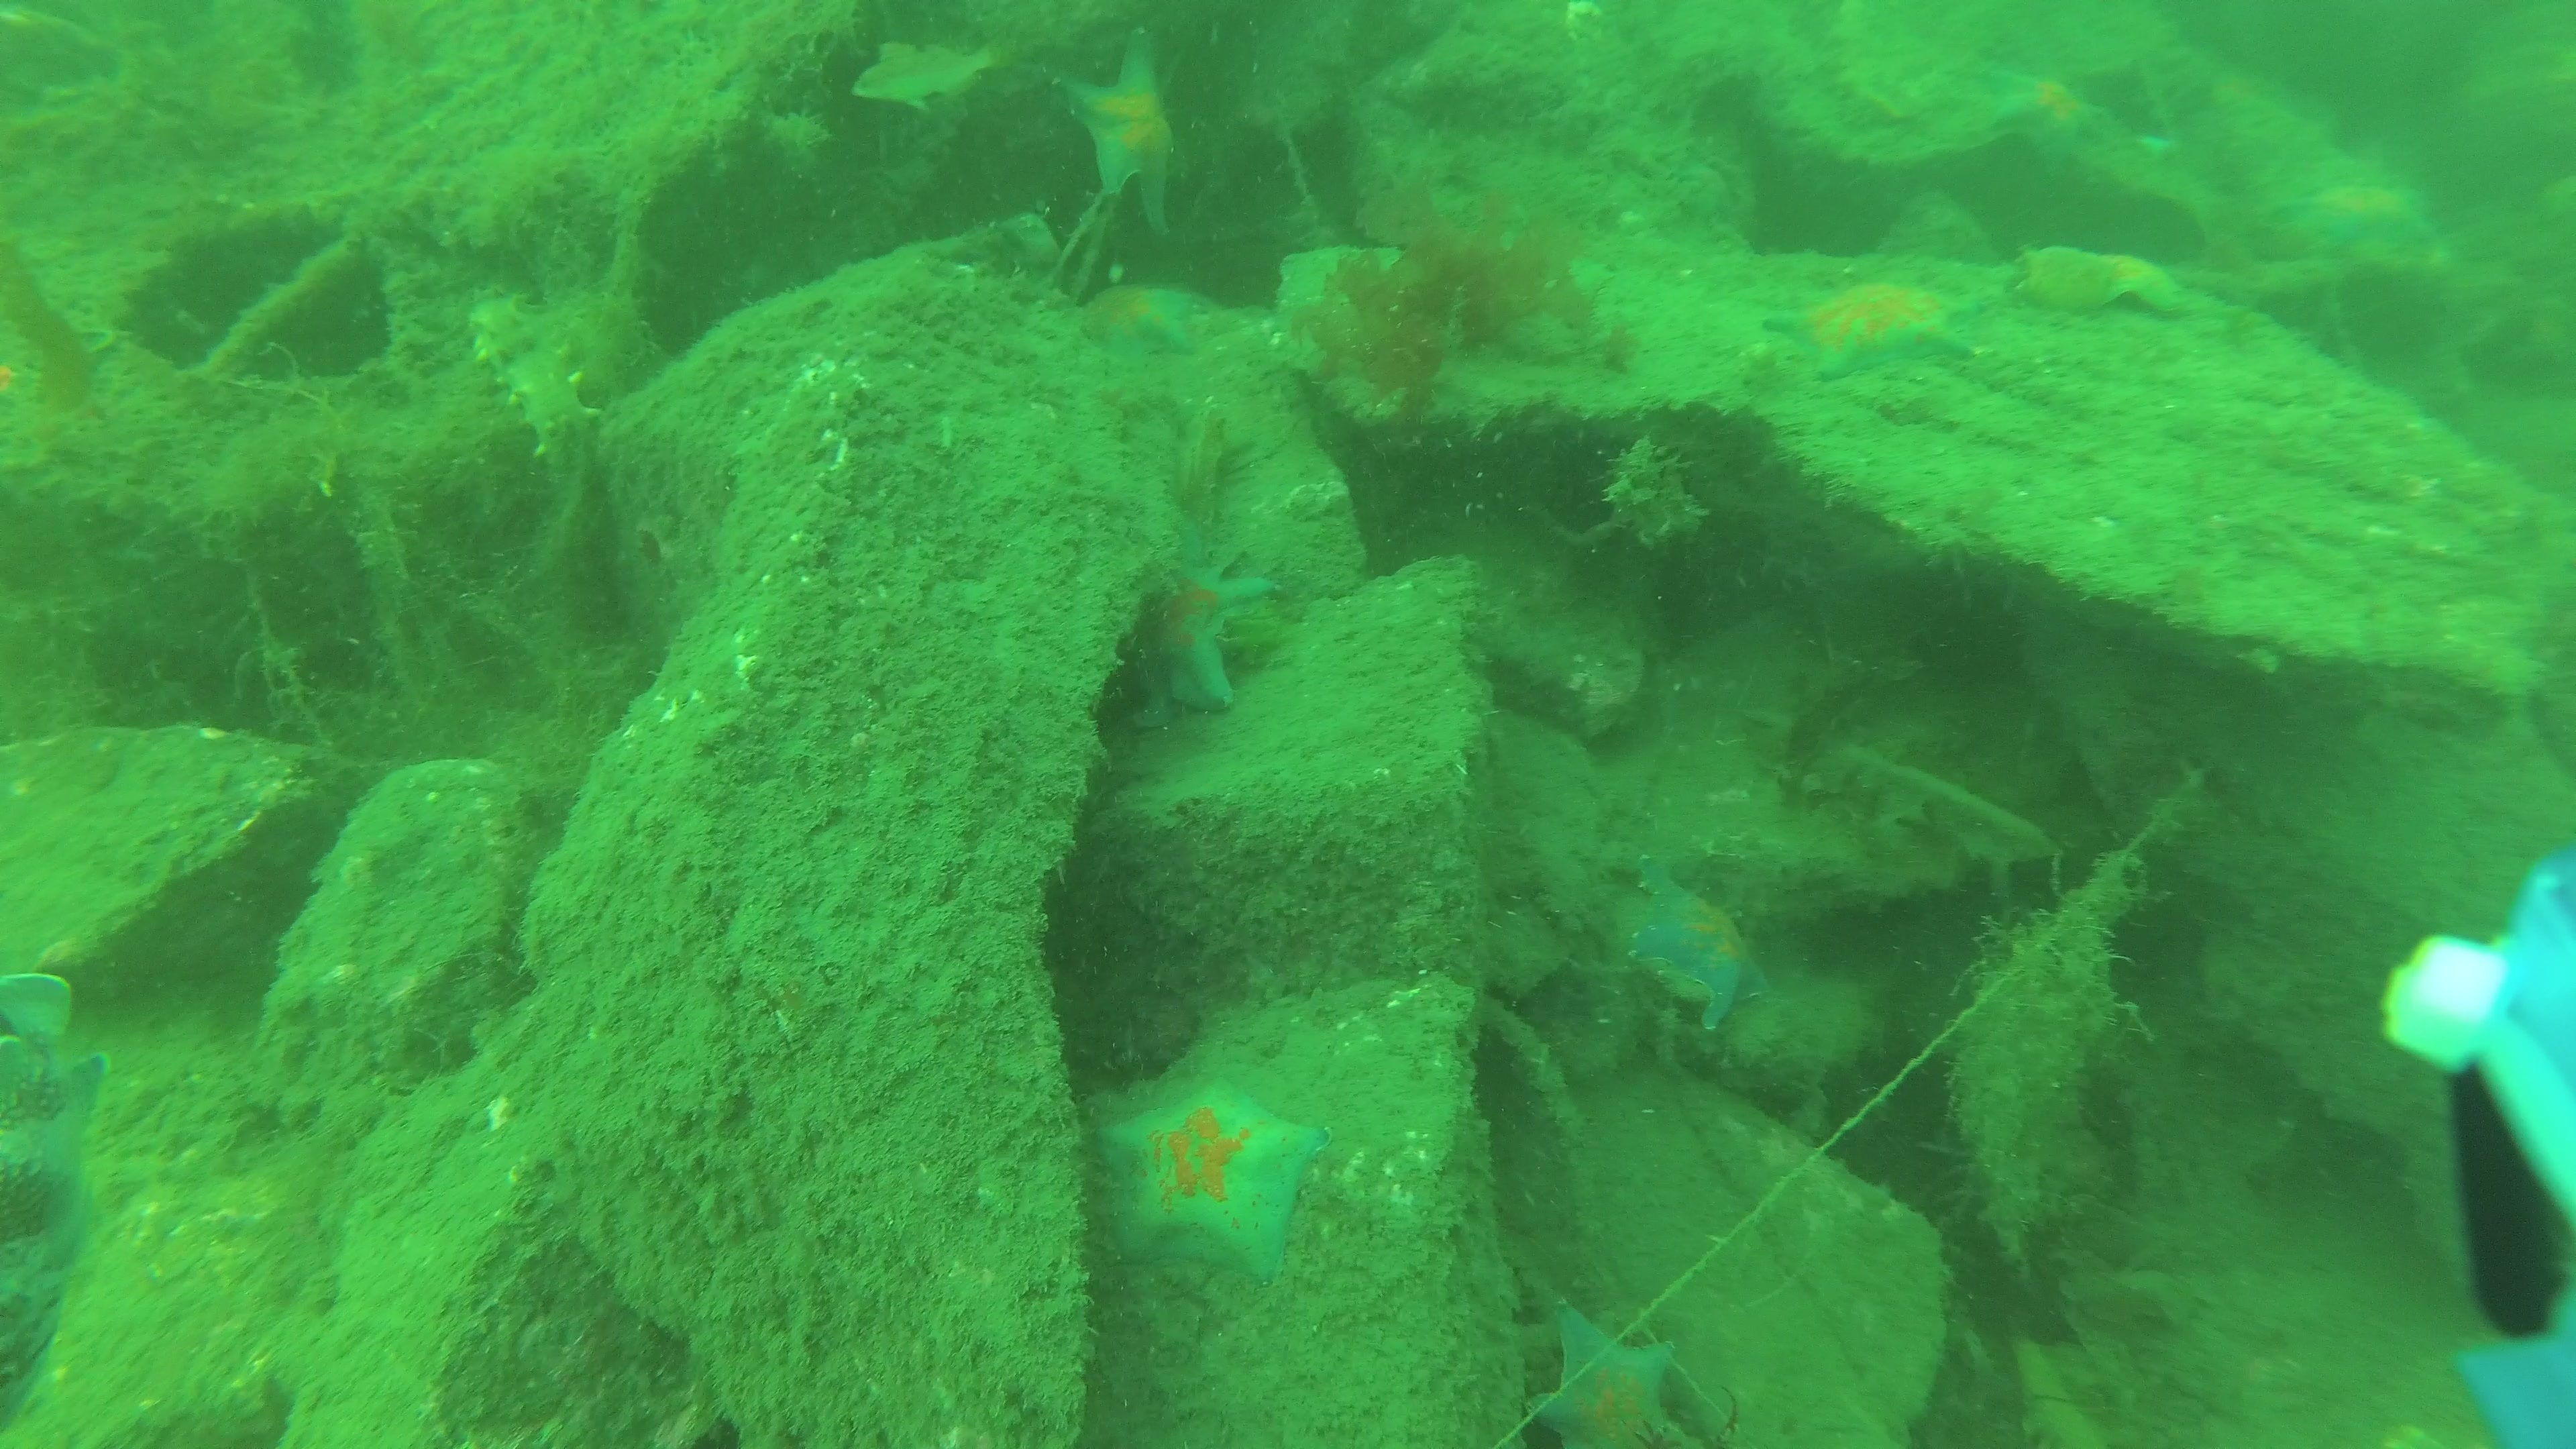holothurian: (469, 299, 600, 479)
starfish: (1109, 1088, 1320, 1269), (1054, 35, 1178, 235), (1529, 1307, 1686, 1449), (1606, 860, 1748, 1016), (1776, 280, 1978, 380), (1157, 554, 1270, 709), (1978, 67, 2109, 175), (2026, 248, 2190, 317), (2295, 184, 2440, 258)
